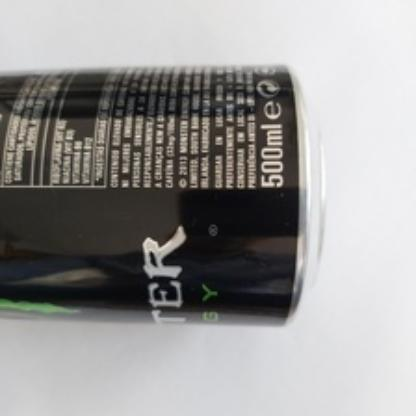Can: (0, 64, 326, 328)
